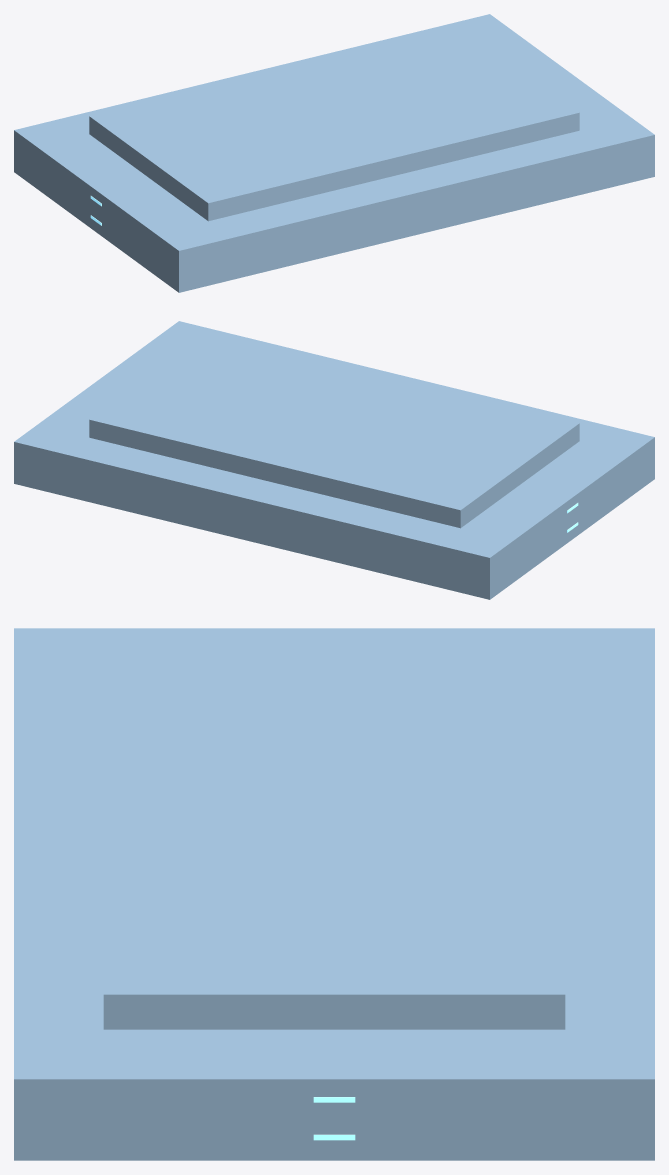
File: forge_materials_lab.glb
3 views of the same model, one above another, from view 1: azimuth 30°, elevation 25°; view 2: azimuth 150°, elevation 25°; view 3: azimuth 270°, elevation 25° (orthographic). The views are drawn at different scales.
Visible parts, largest first — view 1: forge_materials_lab; view 2: forge_materials_lab; view 3: forge_materials_lab.
Part boxes in pixels (x1,y1,x2,y2): forge_materials_lab: (14,14,654,292); forge_materials_lab: (14,321,654,599); forge_materials_lab: (14,628,654,1160).
Bounding box in the file's own units: 91.58 × 11 × 54.9.
